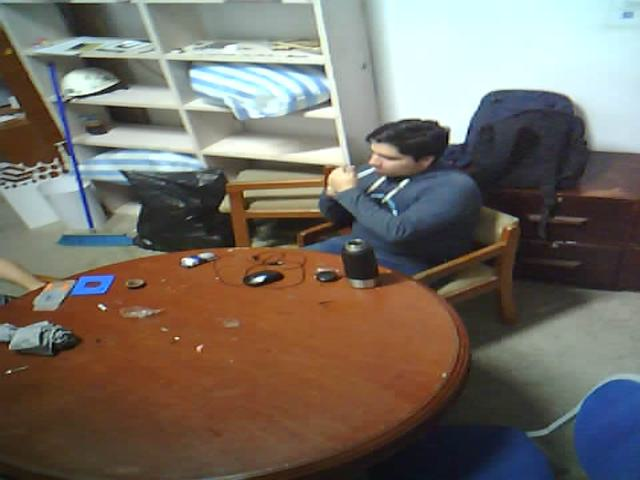person: (287, 90, 531, 342)
